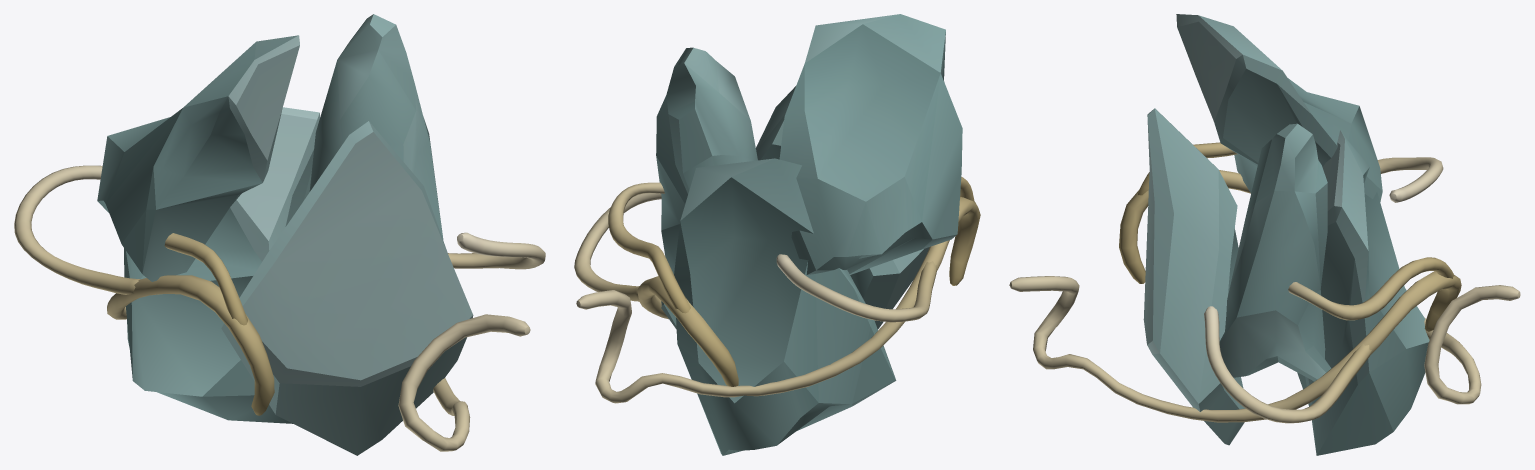
The model's file is EnemyA.fbx.
The picture shows the model from 3 angles, left to right: view 1: azimuth 30°, elevation 25°; view 2: azimuth 150°, elevation 25°; view 3: azimuth 270°, elevation 25°; orthographic projection. The views are drawn at different scales.
Parts seen in each view (by area): view 1: enemyAMesh; view 2: enemyAMesh; view 3: enemyAMesh.
Boxes of the visible parts, <box> form: enemyAMesh: <box>14,14,545,455</box>; enemyAMesh: <box>574,14,980,455</box>; enemyAMesh: <box>1009,14,1520,455</box>.
Bounding box in the file's own units: 11.9 × 11.4 × 13.65.
